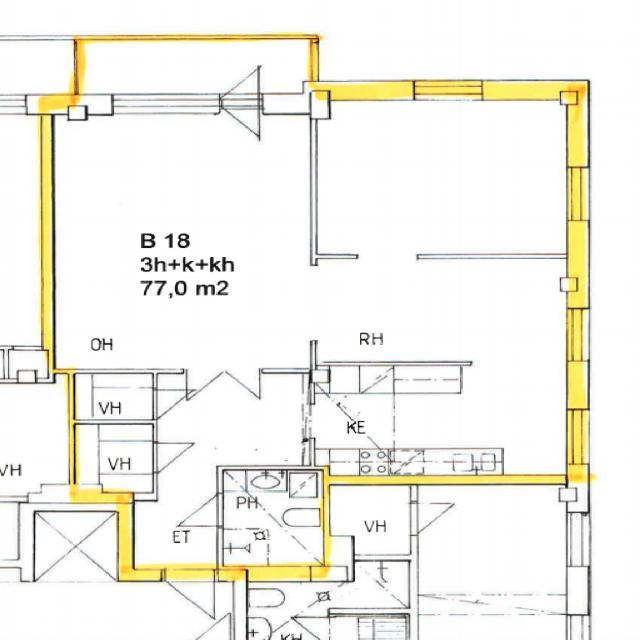door: (165, 569, 214, 621), (219, 93, 259, 146), (219, 62, 259, 115), (176, 494, 223, 526), (223, 369, 260, 402), (187, 369, 223, 402), (152, 442, 192, 470), (152, 390, 192, 418)
